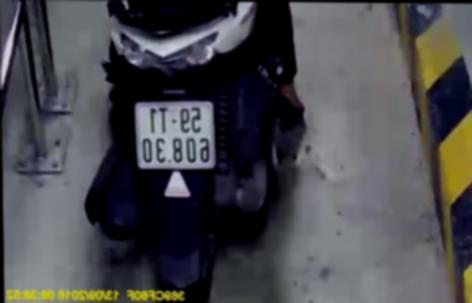License_Plate: (127, 98, 222, 180)
